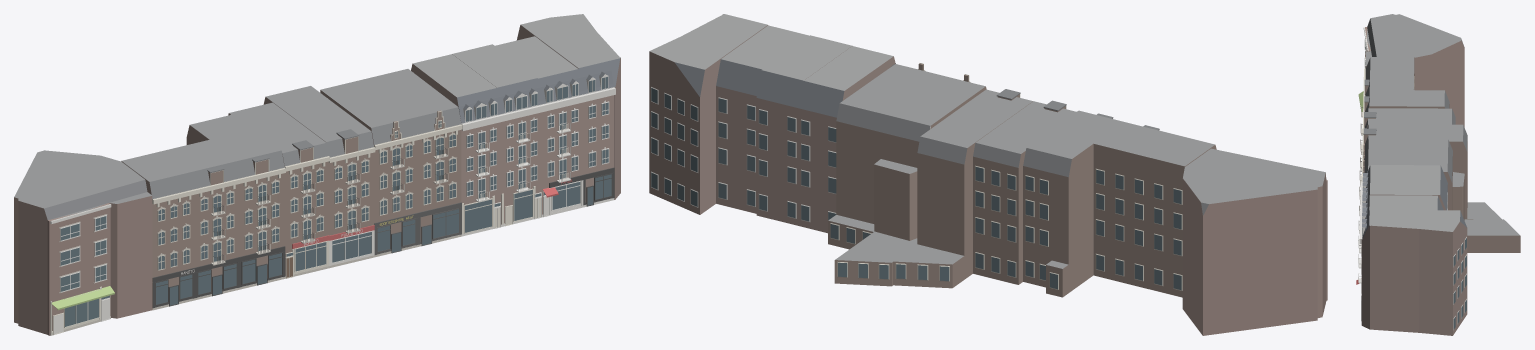
The model's file is chunk-face-clercq-236681.glb.
The picture shows the model from 3 angles, left to right: view 1: azimuth 30°, elevation 25°; view 2: azimuth 150°, elevation 25°; view 3: azimuth 270°, elevation 25°; orthographic projection. The views are drawn at different scales.
Parts seen in each view (by area): view 1: face-clercq-236681; view 2: face-clercq-236681; view 3: face-clercq-236681.
Part boxes in pixels (box(x1,y1,x2,y2)): face-clercq-236681: box(14, 14, 620, 335); face-clercq-236681: box(649, 14, 1327, 335); face-clercq-236681: box(1356, 14, 1520, 335).
Size of the model in its own units: 82.35 by 17.66 by 25.33.
